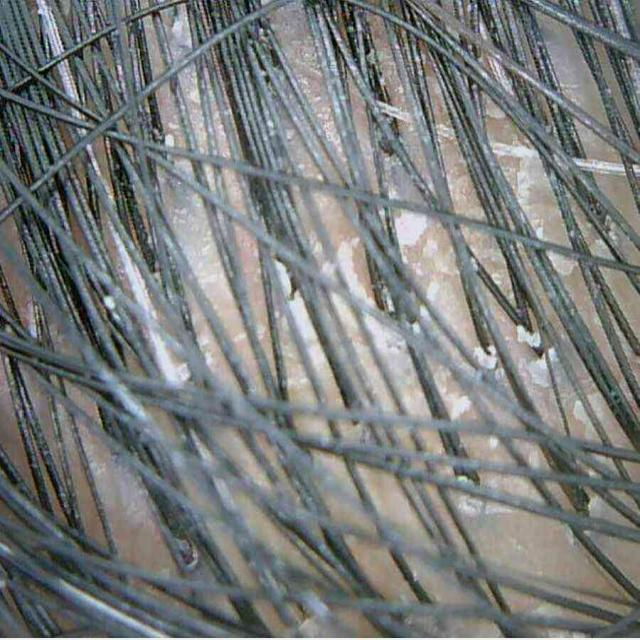d: (338, 237, 375, 305), (289, 292, 322, 363), (361, 308, 395, 349), (512, 158, 536, 209), (395, 213, 428, 247), (572, 400, 599, 440), (548, 251, 578, 276), (526, 357, 550, 387), (446, 395, 471, 420), (516, 325, 541, 349), (474, 346, 498, 370), (280, 263, 292, 299), (589, 493, 604, 516), (426, 280, 440, 303), (549, 348, 556, 363), (421, 306, 426, 316)
